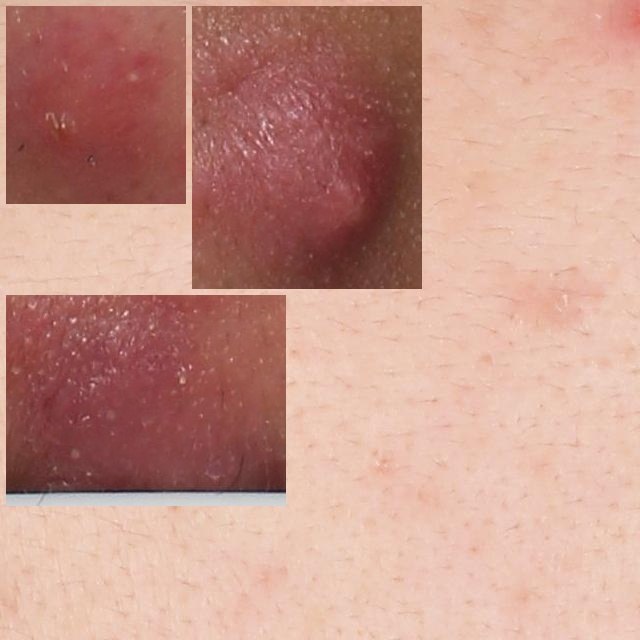nodule: (200, 14, 414, 281), (14, 303, 278, 498), (14, 14, 178, 196)
